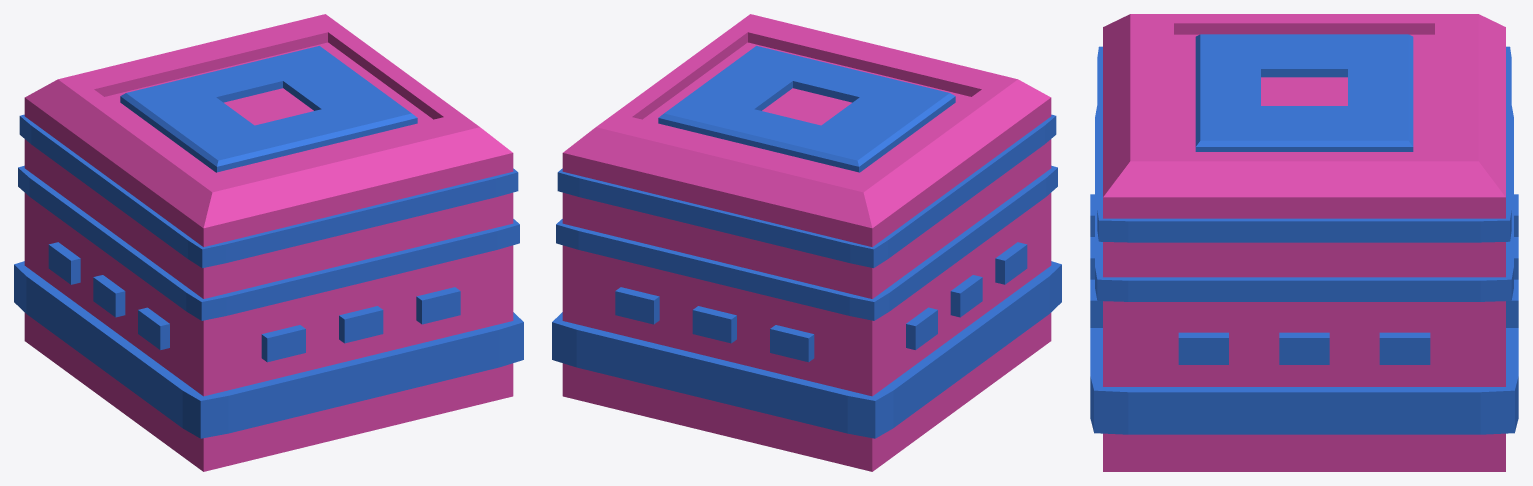
The picture shows the model from 3 angles, left to right: view 1: azimuth 30°, elevation 25°; view 2: azimuth 150°, elevation 25°; view 3: azimuth 270°, elevation 25°; orthographic projection. The views are drawn at different scales.
Visible parts, largest first — view 1: Cube; view 2: Cube; view 3: Cube.
Boxes of the visible parts, left/top/right/bottom form: Cube: left=14, top=14, right=523, bottom=471; Cube: left=552, top=14, right=1061, bottom=471; Cube: left=1090, top=14, right=1518, bottom=471.
Bounding box in the file's own units: 213 × 164 × 213.
